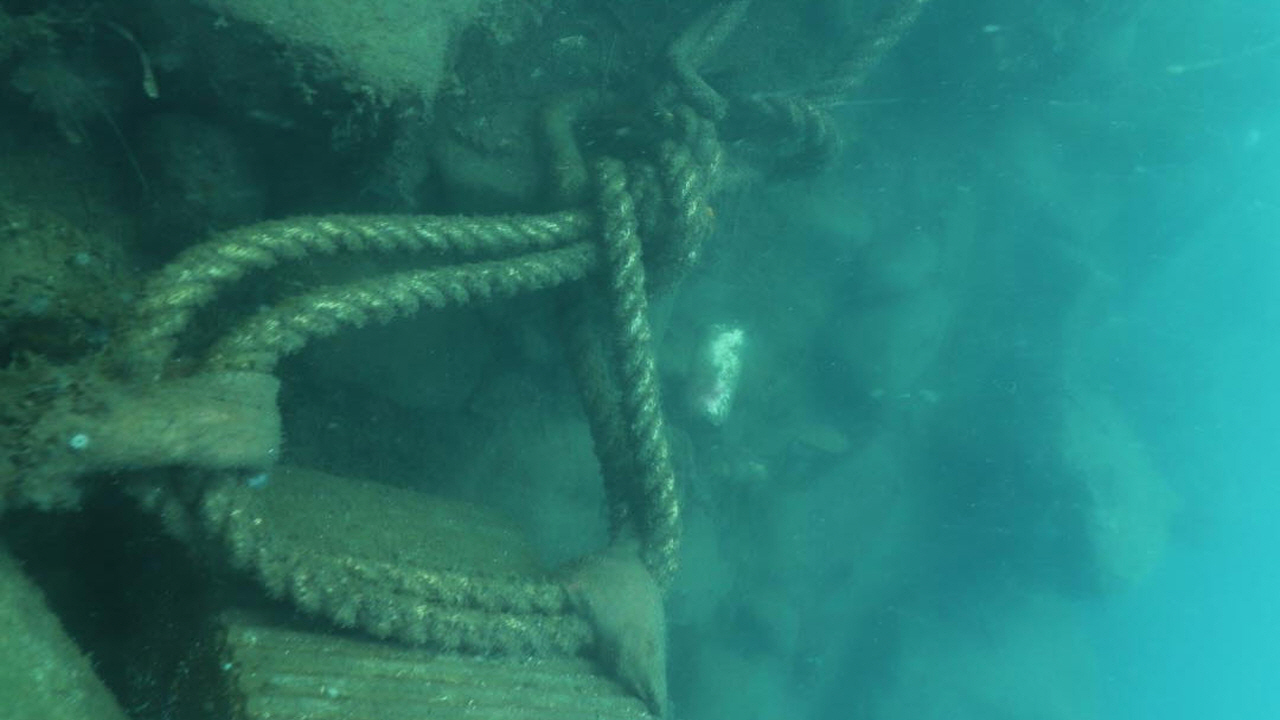bundle of ropes: (120, 0, 928, 656)
